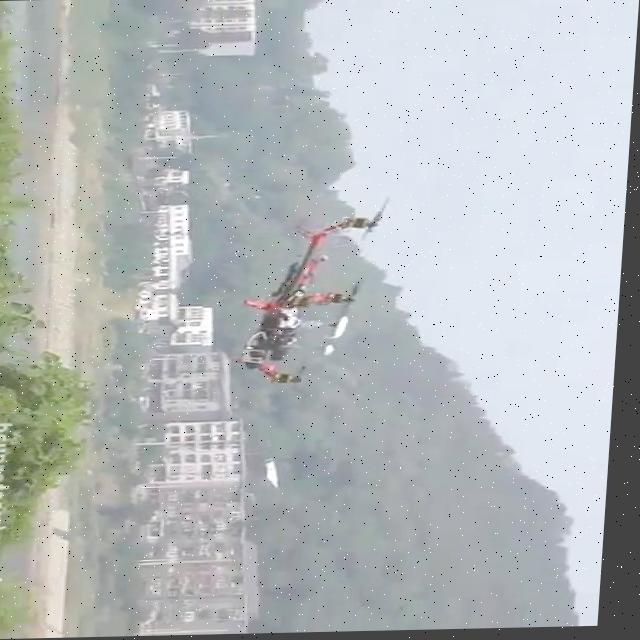drone: (235, 196, 402, 395)
